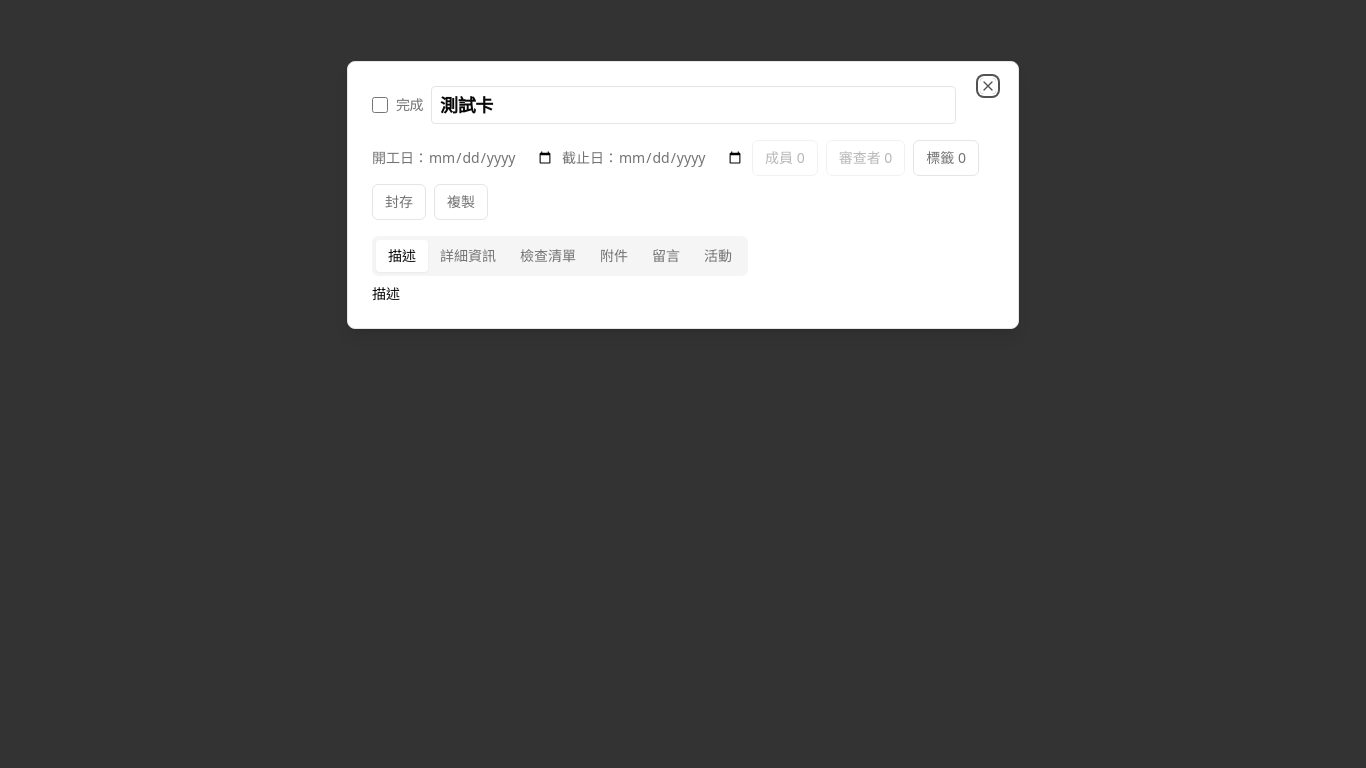
CopyCardDialog 三層目標選擇 › 開啟後三層預填卡片現址
The image size is (1366, 768).
Expected: the field showing "測試卡" is shown, [431,86,956,124]
What coordinates should you click on to do the following:
click the button "複製"
I would click on:
 (461, 202)
Its box is [434,184,488,220].
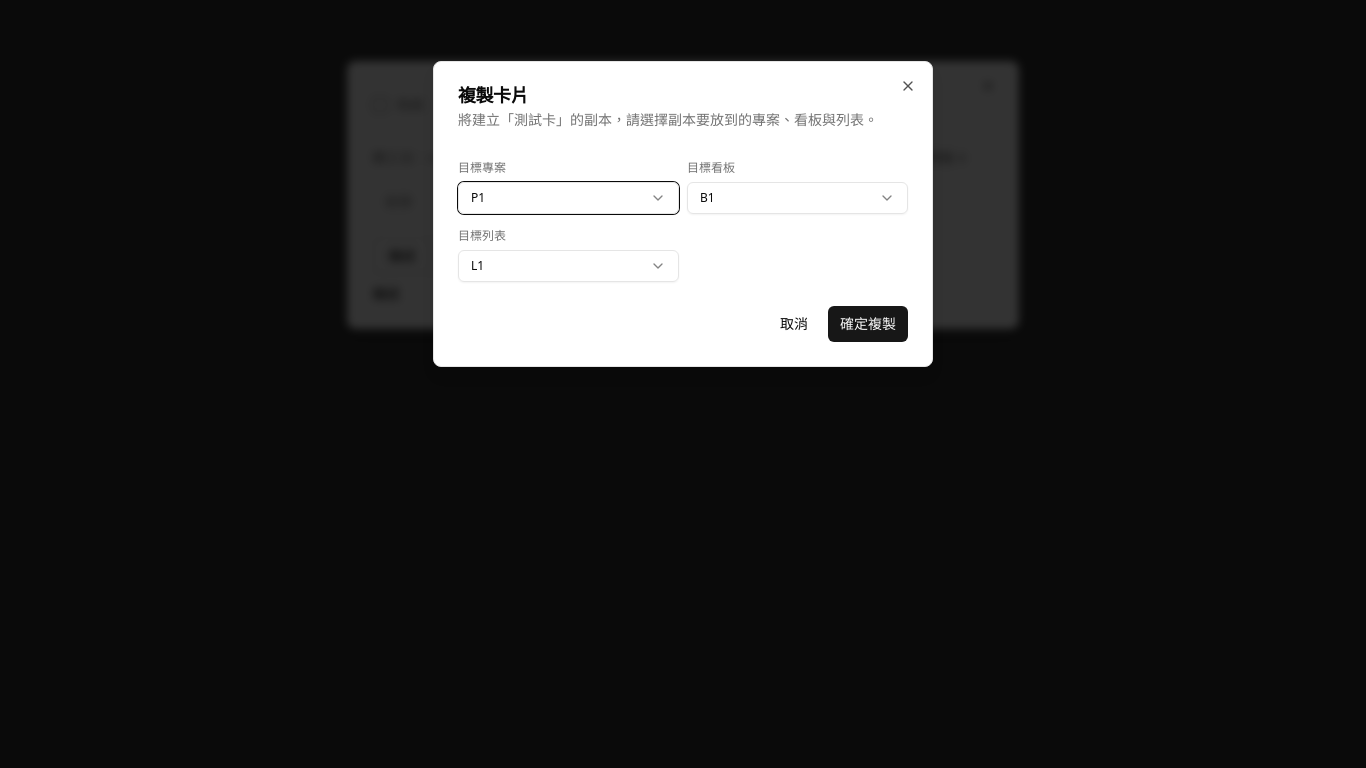
Expected: the dropdown named "目標列表" is enabled, [458,250,679,282]
Expected: the dropdown named "目標專案" reads "P1", [458,182,679,214]
Expected: the dropdown named "目標看板" reads "B1", [687,182,908,214]
